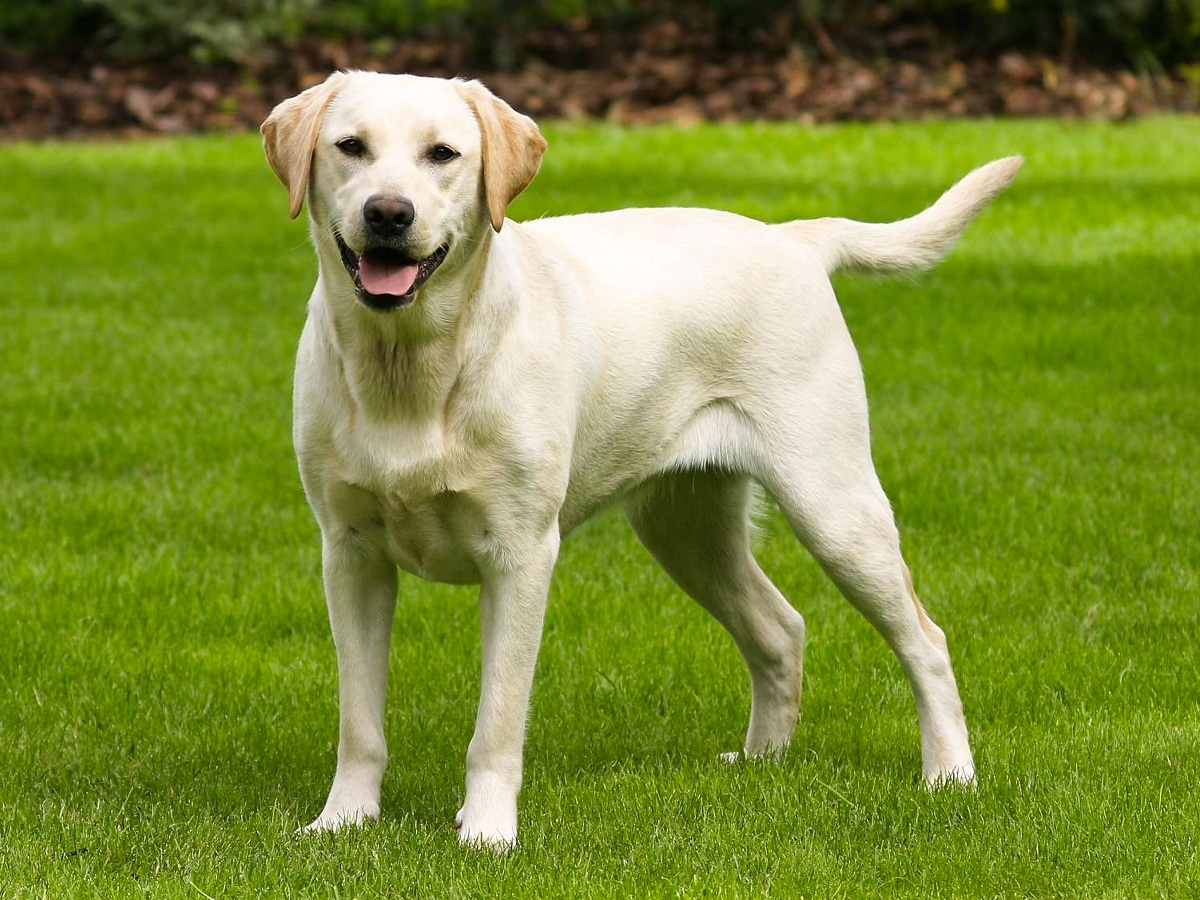dog: (231, 49, 1044, 874)
